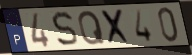0: (156, 6, 180, 44)
4: (30, 11, 51, 49), (134, 8, 155, 44)
Q: (77, 9, 107, 47)
S: (50, 10, 80, 48)
X: (99, 8, 133, 46)
